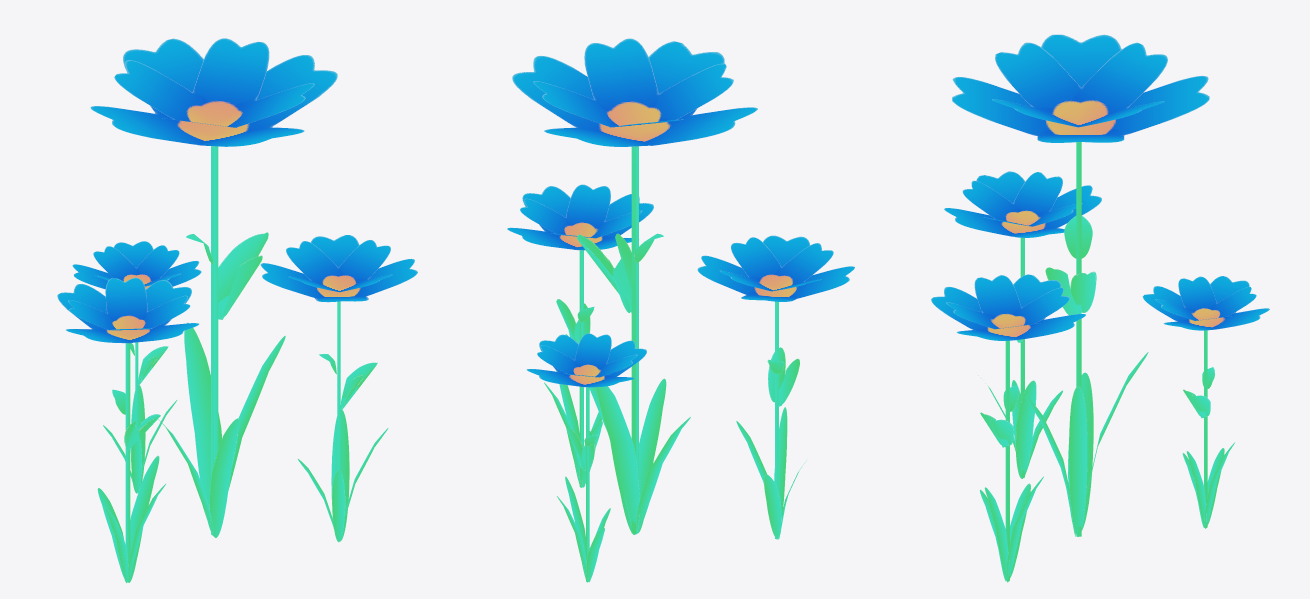
The model's file is Flower_n_01.fbx.
3 views of the same model, side by side, from view 1: azimuth 30°, elevation 25°; view 2: azimuth 150°, elevation 25°; view 3: azimuth 270°, elevation 25° (orthographic).
Parts seen in each view (by area): view 1: polySurface181; view 2: polySurface181; view 3: polySurface181.
Boxes of the visible parts, bbox=[...] form: polySurface181: bbox=[57, 38, 417, 582]; polySurface181: bbox=[507, 38, 854, 582]; polySurface181: bbox=[931, 34, 1269, 582].
Bounding box in the file's own units: 56.81 × 64.29 × 50.09.
Materials: 1 (1 with a texture image).
